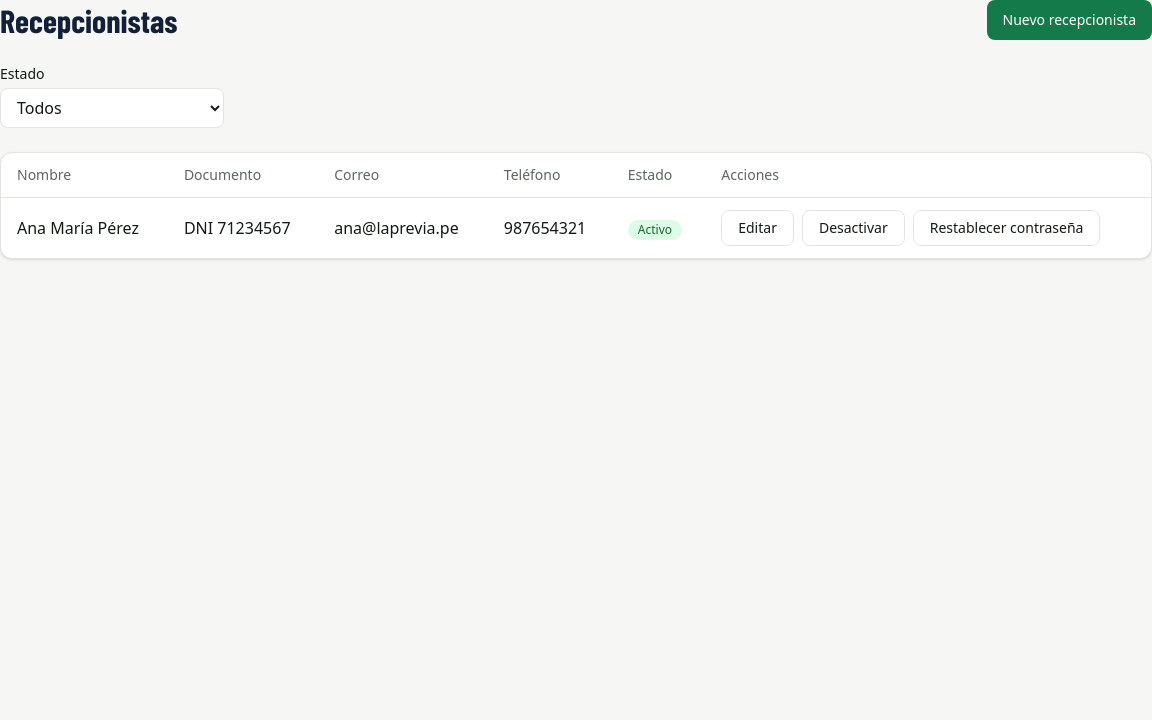
Recepcionistas › pide confirmación antes de desactivar y avisa con un Toast de éxito
The width and height of the screenshot is (1152, 720).
What coordinates should you click on to do the following:
click the button "Desactivar"
I would click on:
 (853, 228)
Its box is [802,210,905,246].
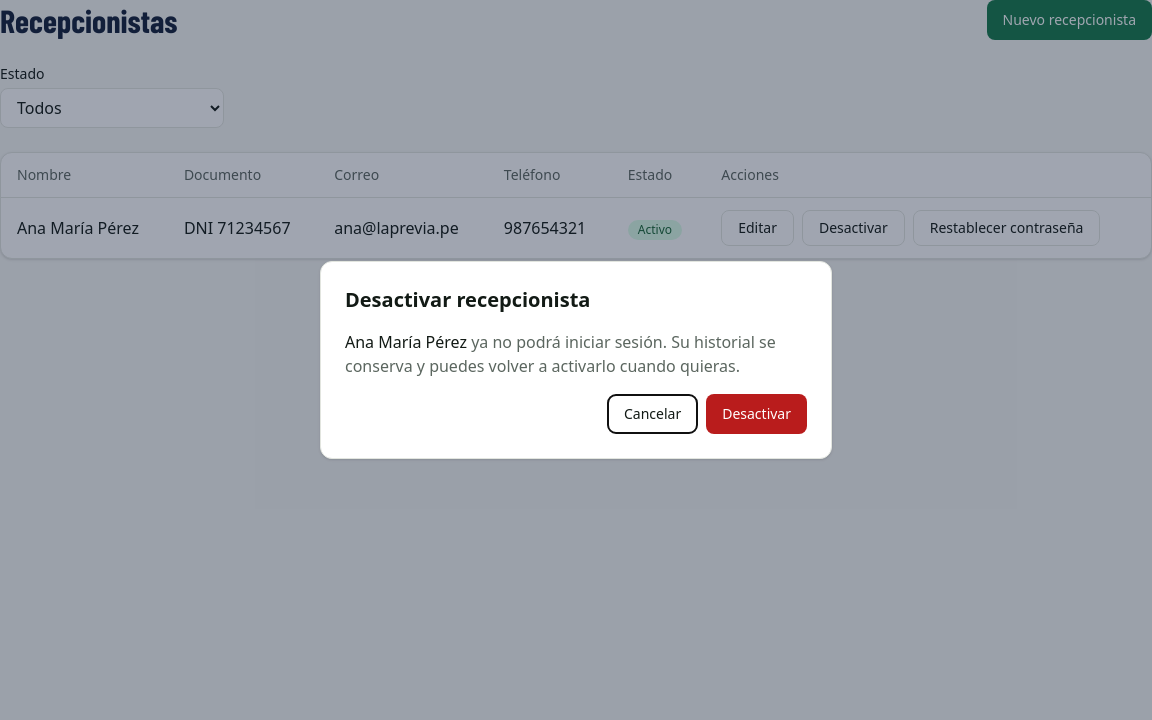
Check: the heading "Desactivar recepcionista" is shown, box [345,286,590,313]
Check: the text "ya no podrá iniciar sesión" is shown, box [345,331,776,377]
What coordinates should you click on to do the following:
click the button "Desactivar"
I would click on:
 (757, 414)
Its box is [706,394,807,434].
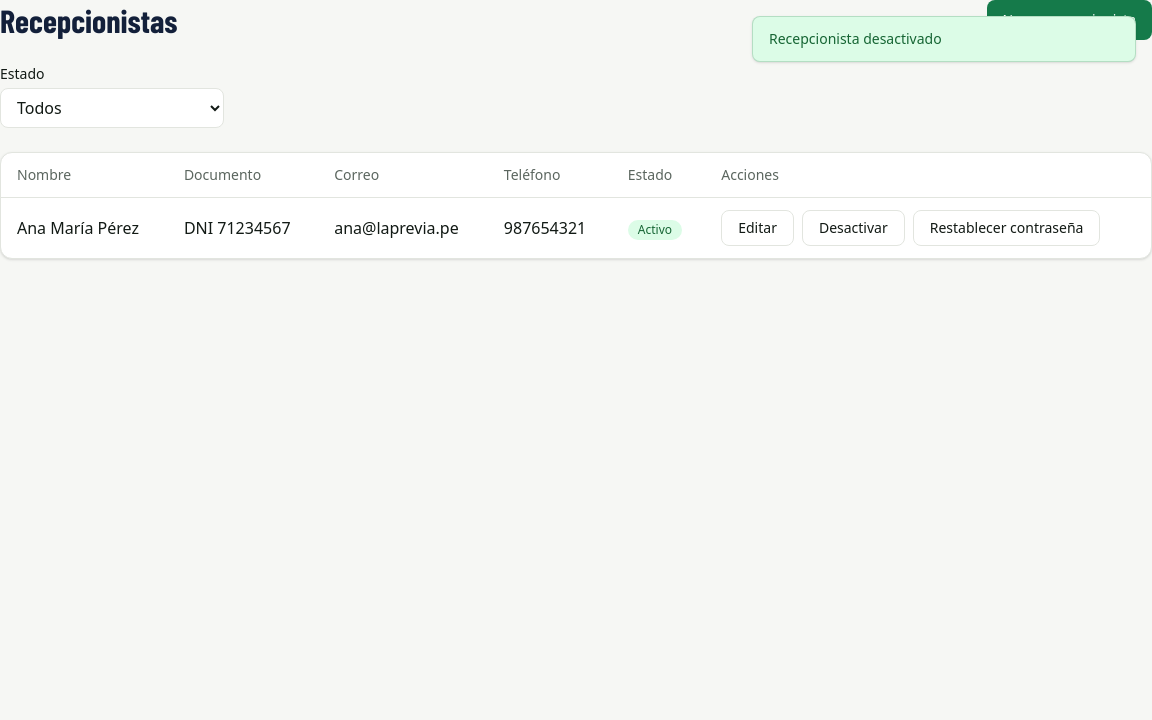
Check: the message reads "Recepcionista desactivado", box [769,29,942,48]
Check: the dialog is gone
